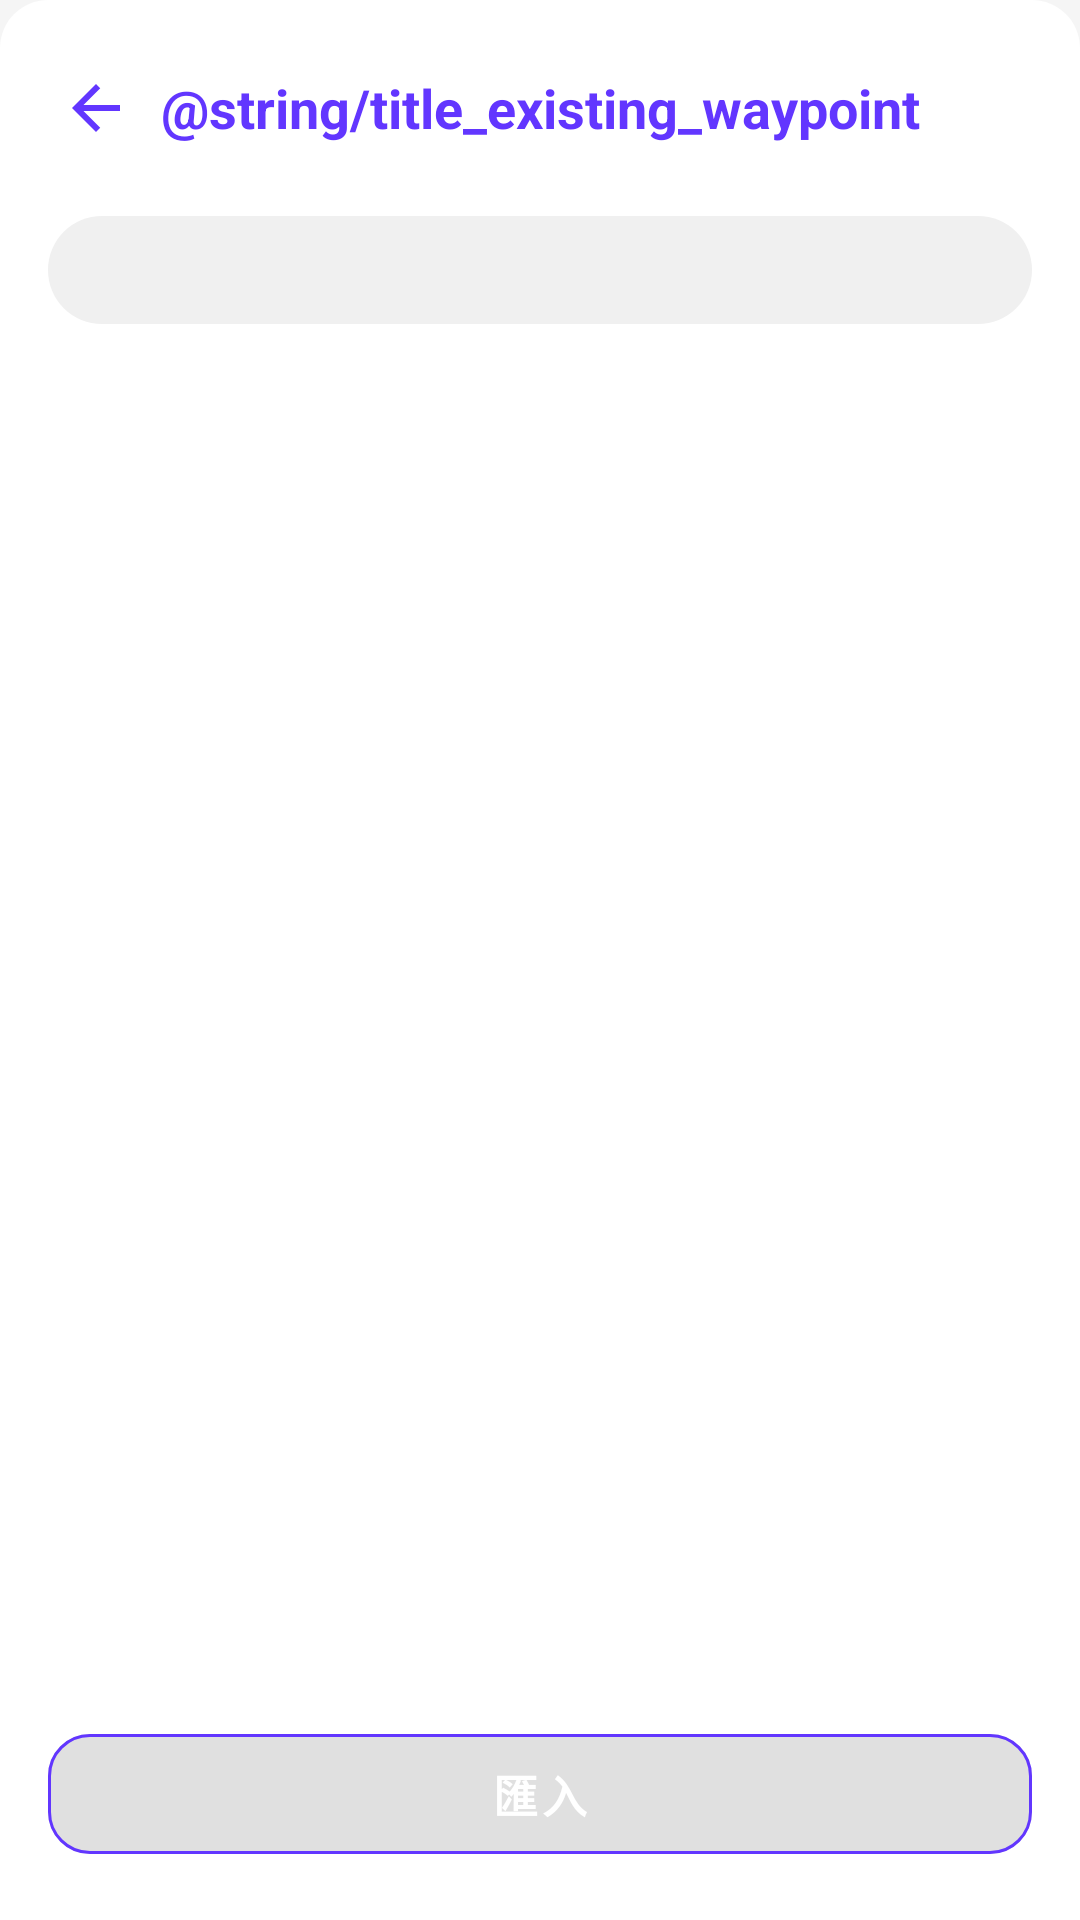

Point at icon controls on the screen. Image size 1080w x 1920h, points as point (x, y).
返回: point (96, 108)
